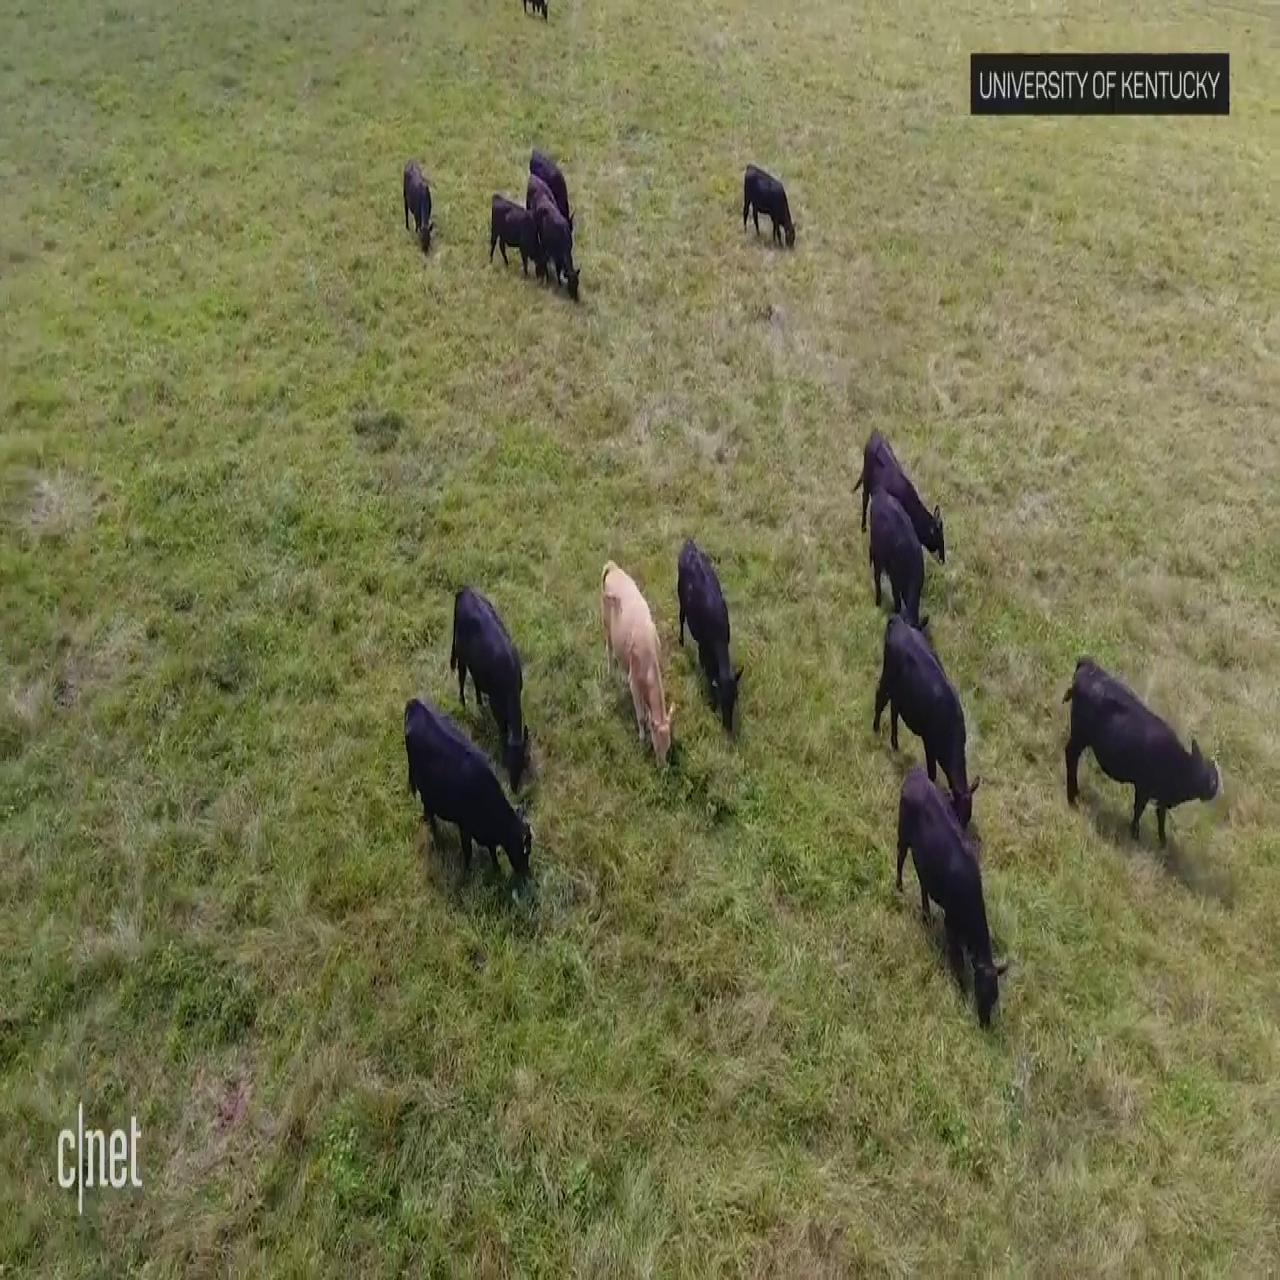cow: (1062, 655, 1223, 853), (896, 765, 1010, 1023), (402, 690, 535, 897), (876, 610, 980, 824), (598, 554, 675, 771), (444, 579, 525, 769), (853, 425, 947, 571), (673, 535, 736, 745), (859, 474, 934, 636), (741, 163, 798, 251), (527, 204, 576, 293), (527, 152, 578, 226), (402, 159, 437, 252), (486, 191, 527, 268), (525, 0, 556, 22)
